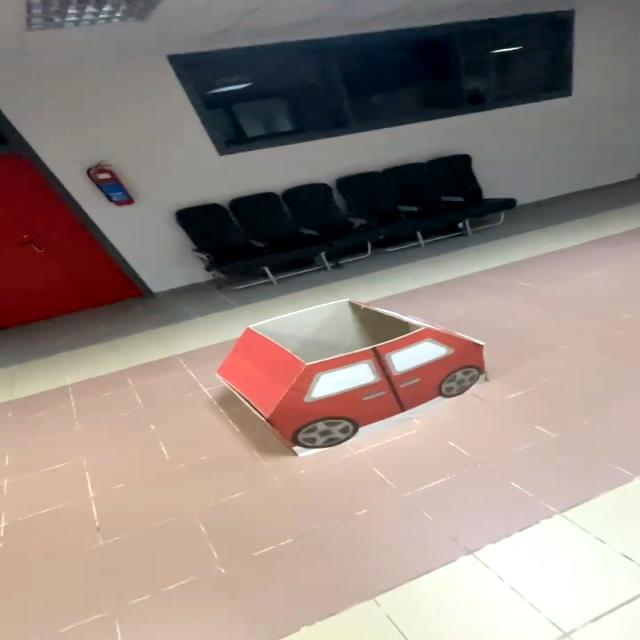red_car: (194, 285, 507, 471)
